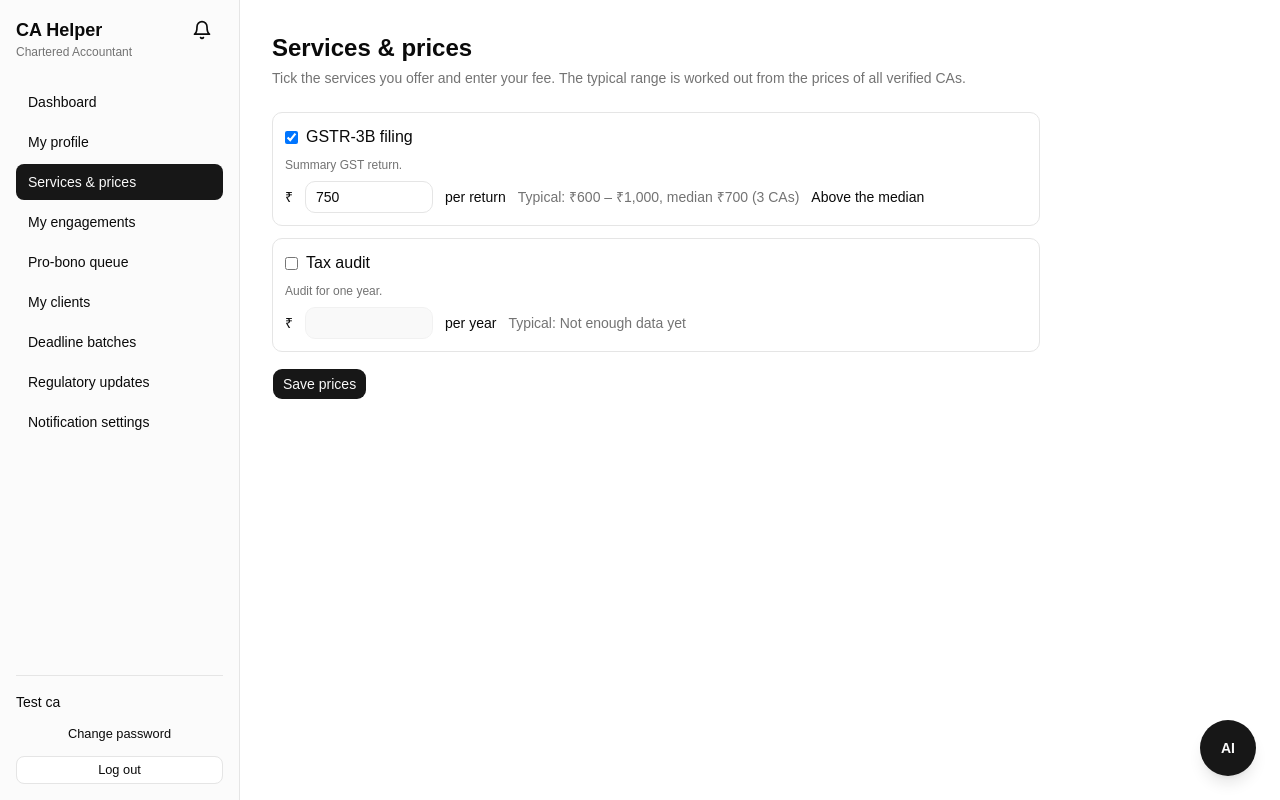
CA services & prices page › refuses a price of -100 next to its field and near Save
Replace the text in the field named "Price for GSTR-3B filing" with "-100" at point(369, 197), box [305,181,433,213]
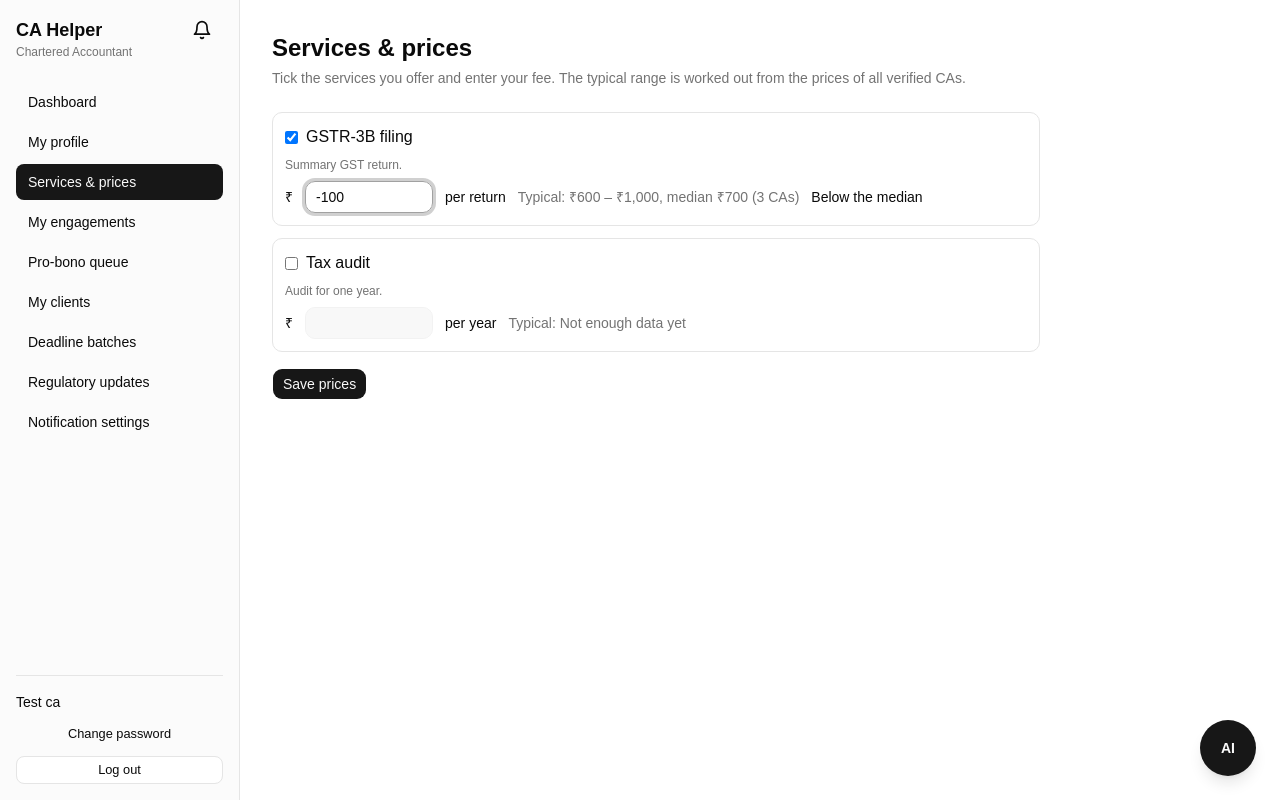
Click the button "Save prices".
click(320, 384)  # box [272,368,367,400]
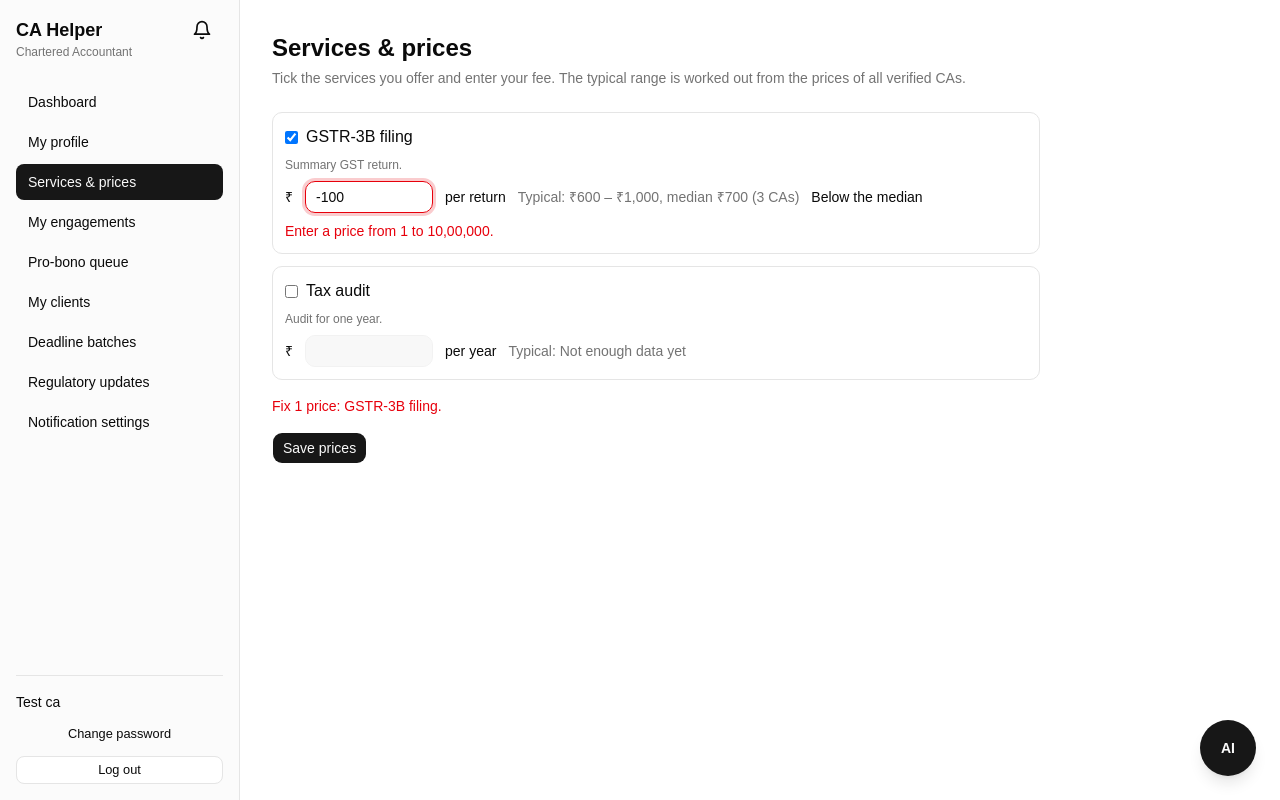
Now the message reads "Fix 1 price: GSTR-3B filing.", box [272,398,442,414]
